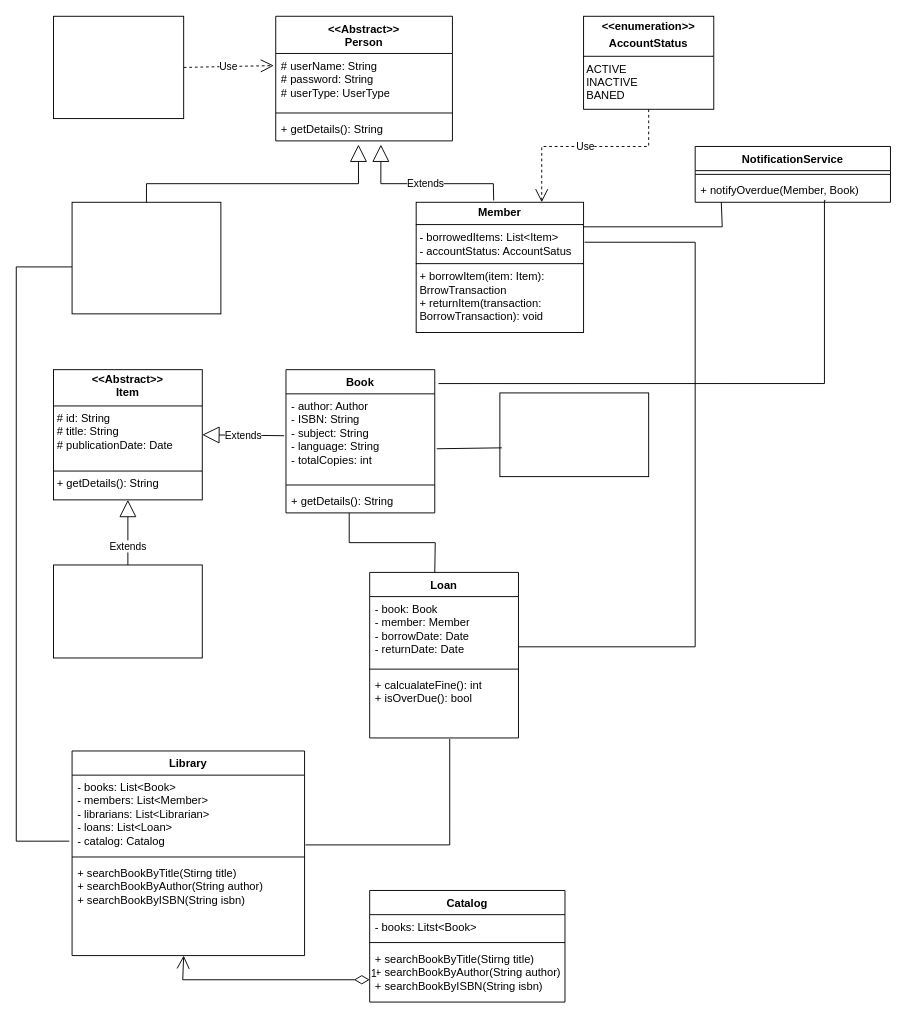
The diagram is 907 pixels wide and 1021 high, and some of its shapes have lost their labels. The shapes that lost their labels are listed below. From the top down, each one's centre as x and y in pixels, then its label:
point (118, 67): <<enumeration>> UserType MEMBER LIBRARIAN
point (146, 257): Librarian + addItem(): bool + removeItem(): bool + manageMembers(): void
point (574, 434): Author - name: String - dateOfBirth: Date + getName(): String
point (127, 611): Magazine - issueNumber: String + publisher: String
